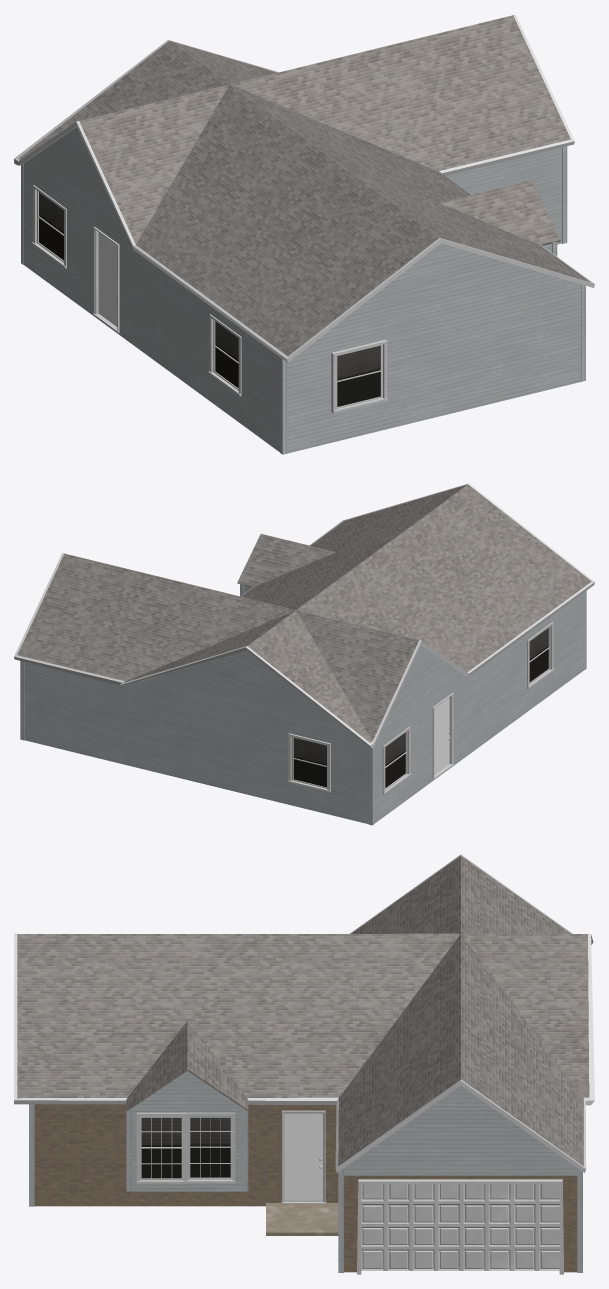
Rendered from house-9.glb.
The picture shows the model from 3 angles, top to bottom: view 1: azimuth 30°, elevation 25°; view 2: azimuth 150°, elevation 25°; view 3: azimuth 270°, elevation 25°; orthographic projection. The views are drawn at different scales.
Parts seen in each view (by area): view 1: House_9_col_4; view 2: House_9_col_4; view 3: House_9_col_4.
Part boxes in pixels (bbox=[...]): House_9_col_4: bbox=[14, 14, 594, 454]; House_9_col_4: bbox=[14, 483, 594, 825]; House_9_col_4: bbox=[14, 854, 594, 1274].
Bounding box in the file's own units: 11.78 × 4.73 × 12.74.
Materials: 1 (1 with a texture image).
